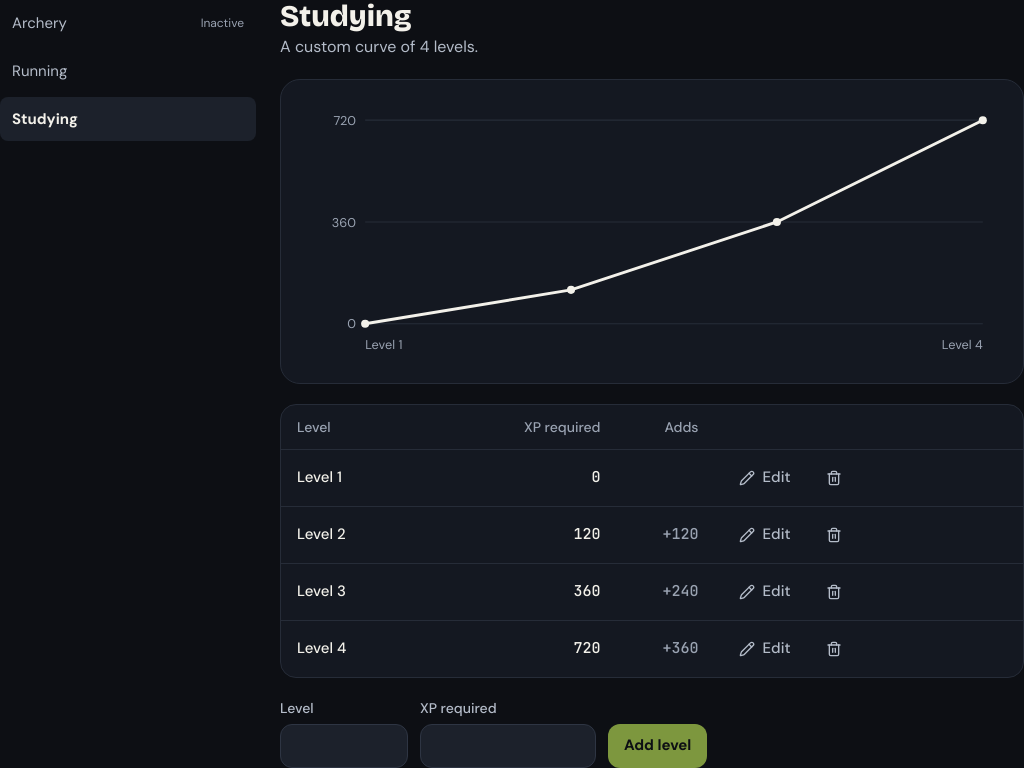
Test case: Leveling rules — adding a level › can be cancelled without saving
(page scrolled)
expect the text "A custom curve of 4 levels." is shown: met, box [280,36,478,57]
In the number field labelled "Level": (344, 746) [280,724,408,767], type "5"
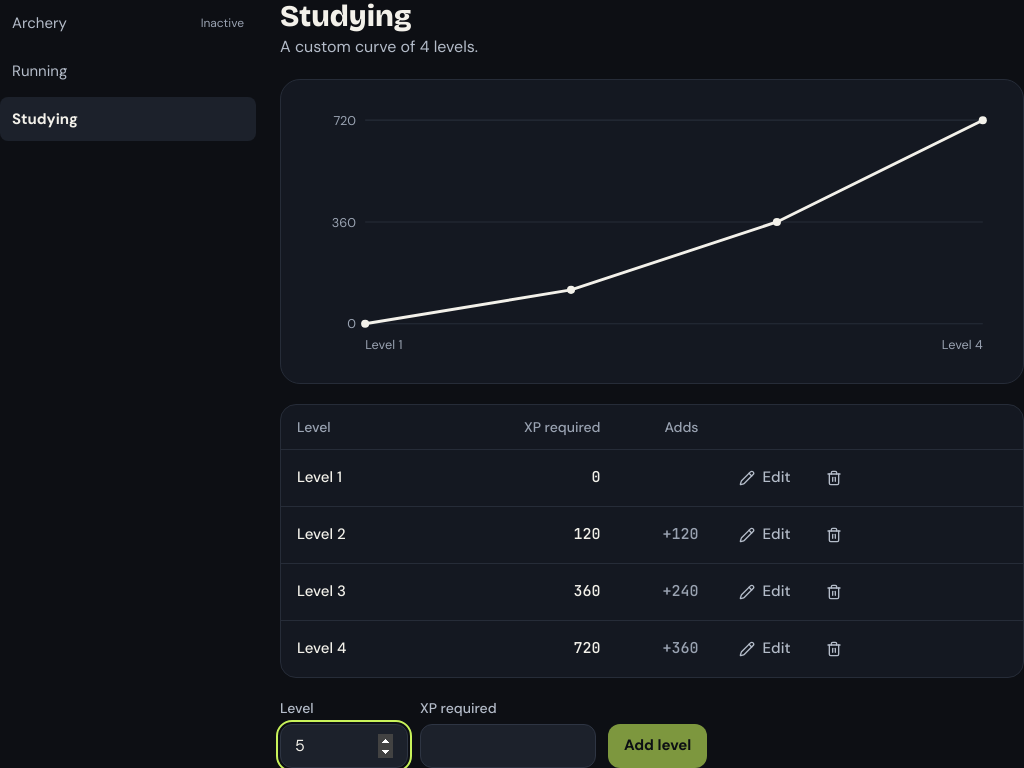
In the number field labelled "XP required": (508, 746) [420,724,596,767], type "1500"
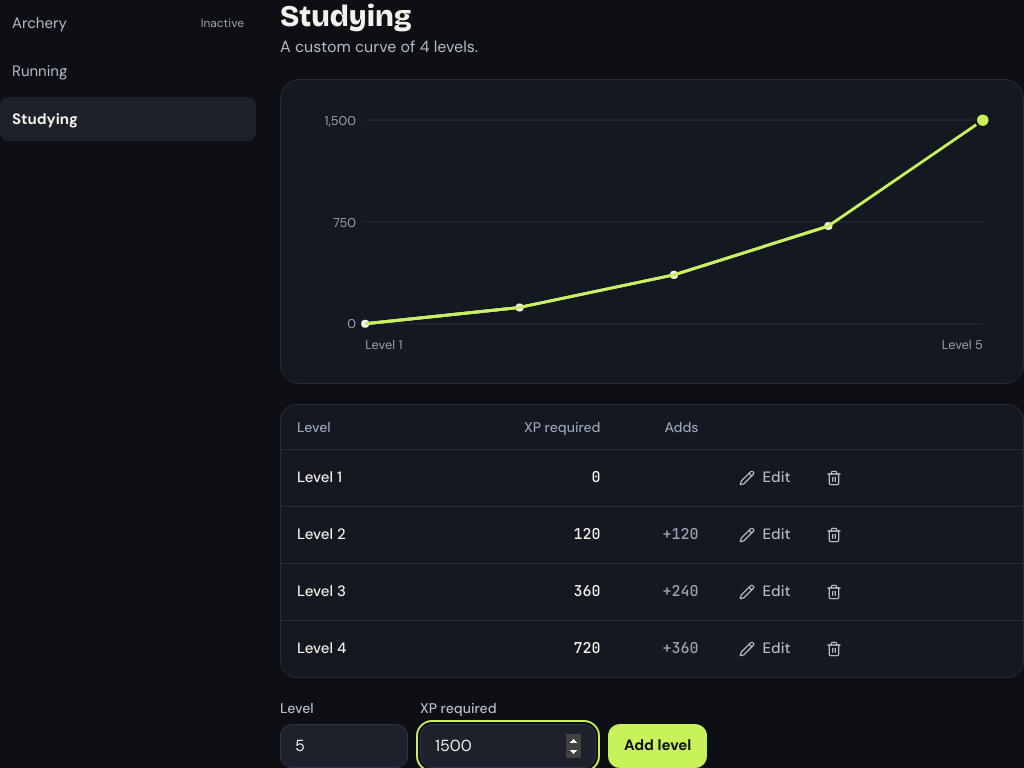
Click the button "Add level": (658, 746) [608,724,707,767]
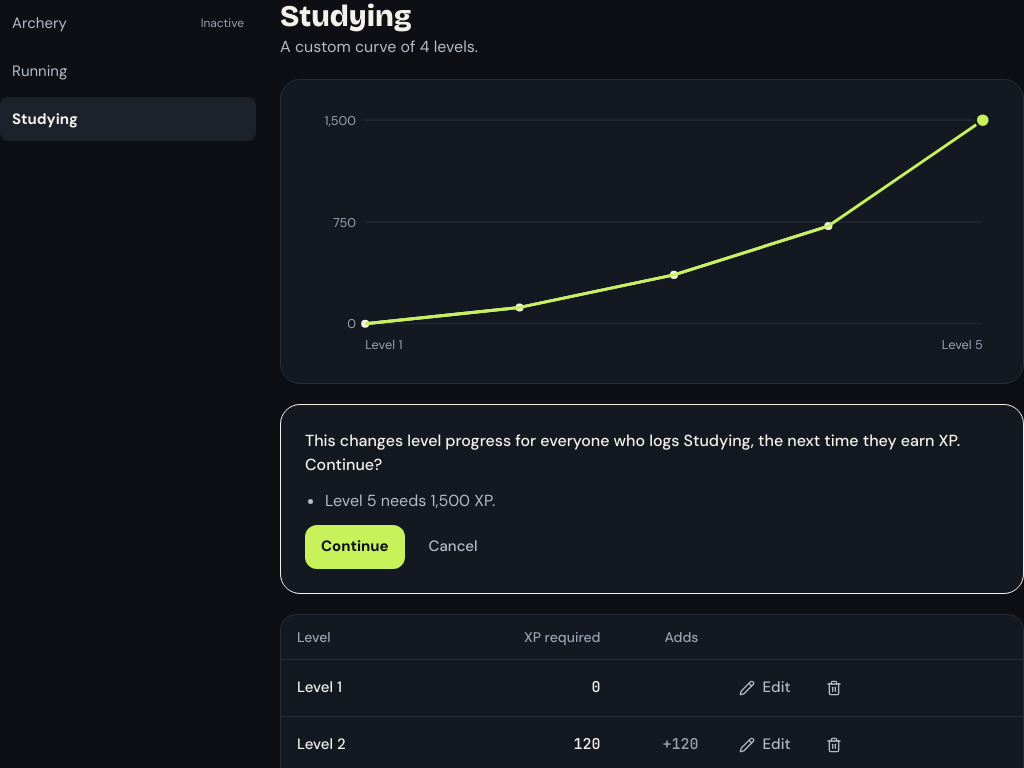
Click the button "Cancel": (453, 547) [413,525,494,569]
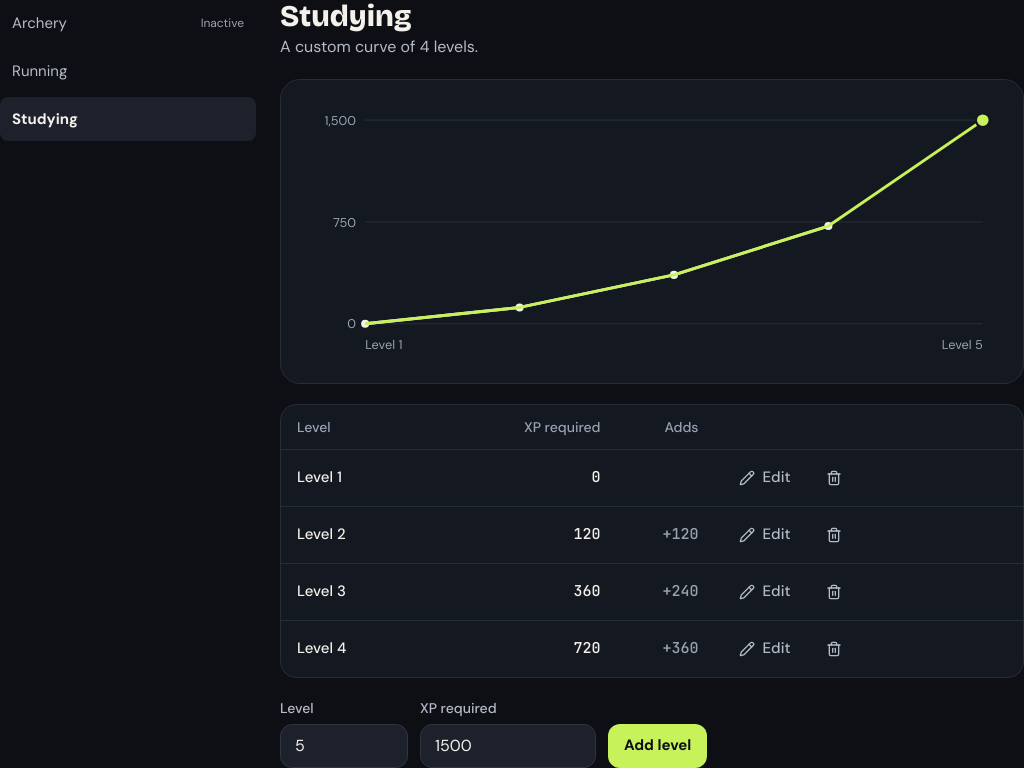
expect the dialog is gone: met
